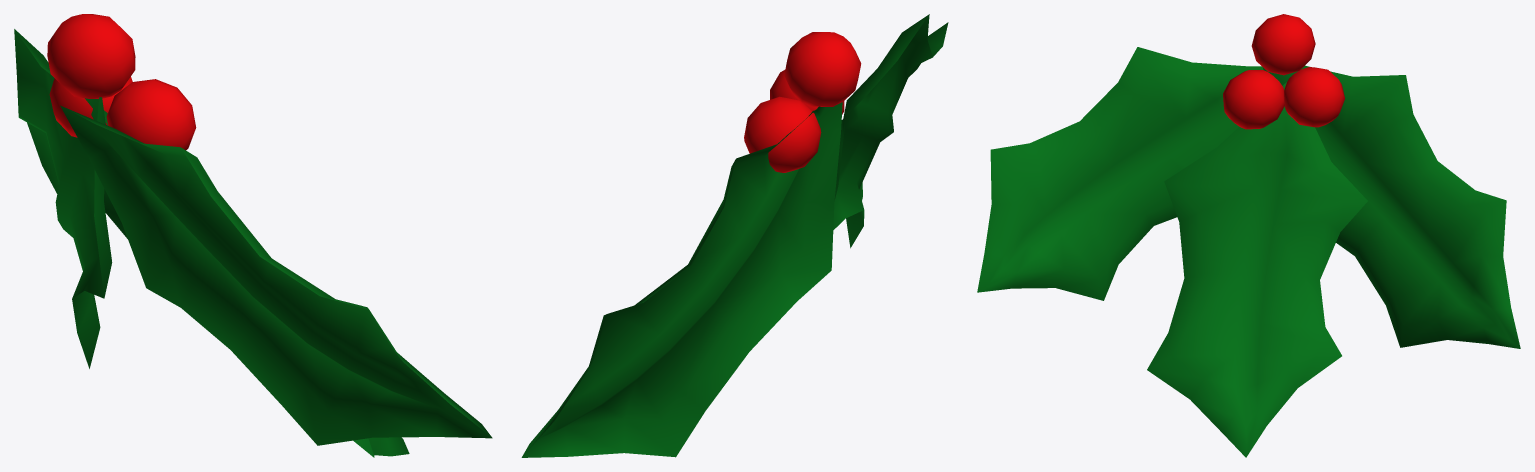
Rendered from decoration_holly_alone.fbx.
3 renders of one model, left to right at view 1: azimuth 30°, elevation 25°; view 2: azimuth 150°, elevation 25°; view 3: azimuth 270°, elevation 25°, orthographic. The views are drawn at different scales.
Parts seen in each view (by area): view 1: decoration_holly_alone; view 2: decoration_holly_alone; view 3: decoration_holly_alone.
Boxes of the visible parts, x1,y1,x2,y2 form: decoration_holly_alone: (14,14,492,457); decoration_holly_alone: (521,14,948,457); decoration_holly_alone: (977,14,1520,457).
Bounding box in the file's own units: 5.57 × 7.9 × 11.4.
